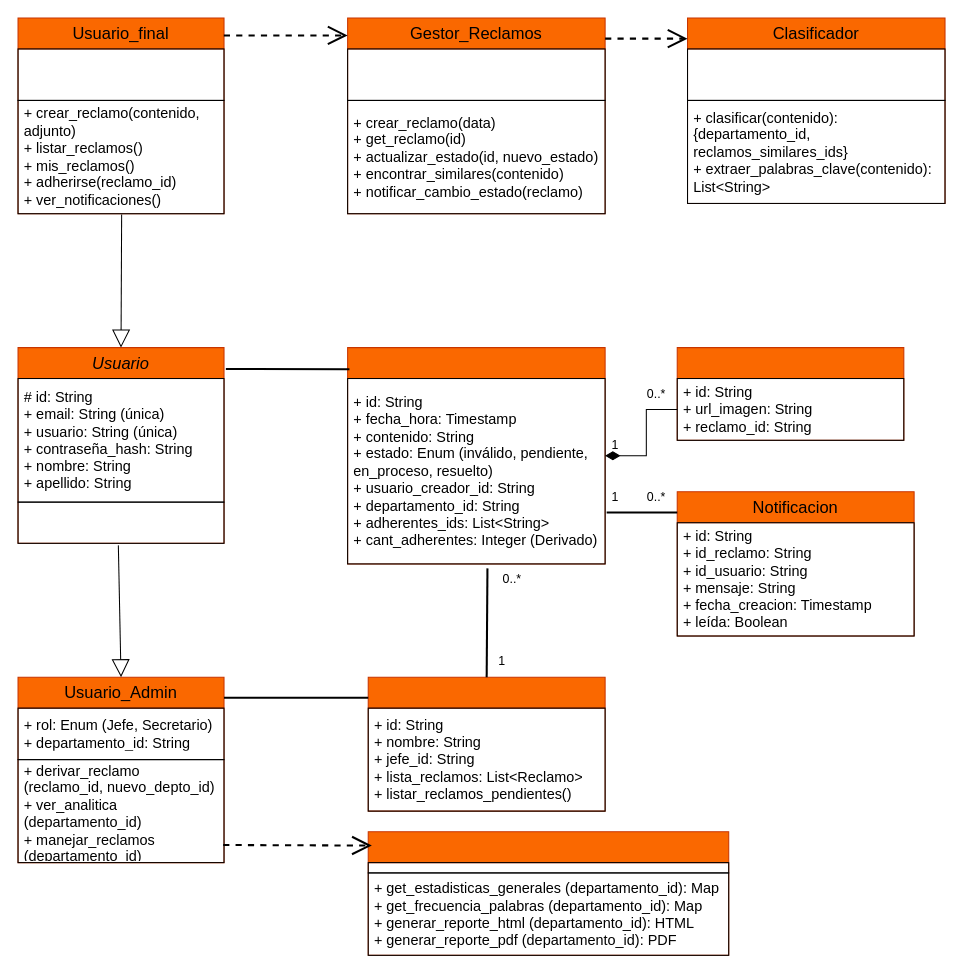
The diagram is 963 pixels wide and 973 high, and some of its shapes have lost their labels. The shapes that lost their labels are listed below. From the top down, each one's box as (x1, y1, x2, y2) in pixels, then its label:
(17, 48, 224, 100): + claustro: Enum (Estudiante, Docente, PAyS)
(347, 48, 605, 100): - clasificador: Clasificador_Servicio
(686, 48, 945, 100): - stopwords: List<String>
(676, 347, 904, 440): Adjunto
(347, 347, 605, 564): Reclamo
(17, 501, 224, 543): + login(usuario, contraseña)
(367, 676, 605, 811): Departamento
(367, 831, 729, 955): Analitica
